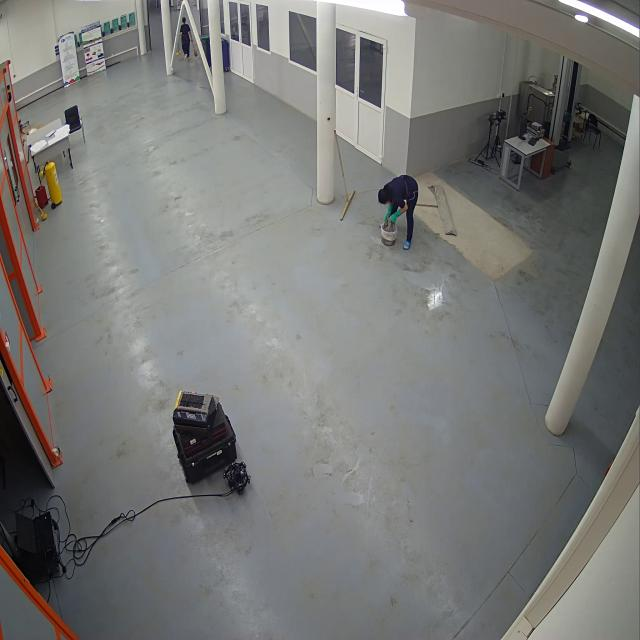NO-Hardhat: (379, 186, 386, 205), (182, 13, 188, 22)
Person: (377, 172, 422, 253), (178, 10, 195, 61)
